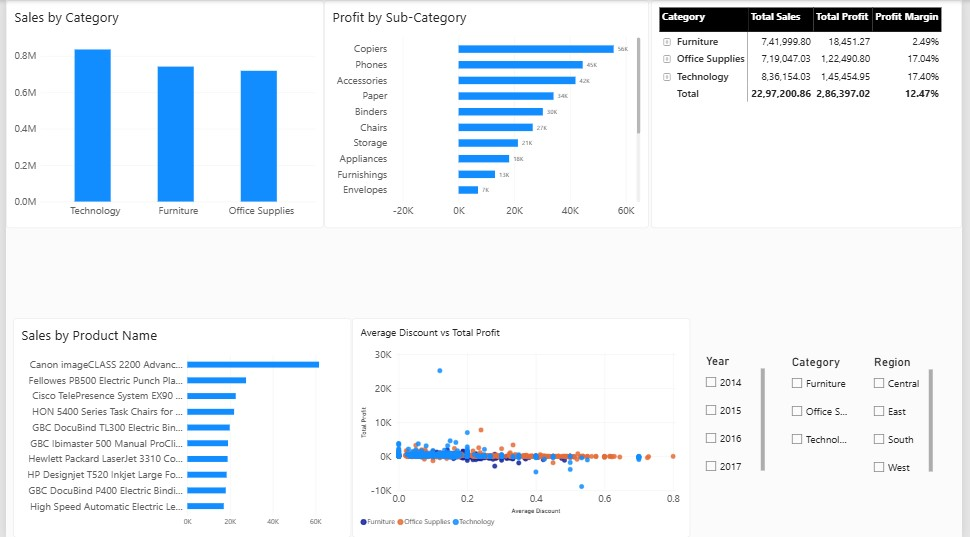

Layout of this report page (visuals, bound fields, positions):
{"tool":"powerbi","page":{"name":"Product Analysis","canvas":[1920,1080],"ordinal":1},"visuals":[{"type":"clusteredColumnChart","title":"Sales by Category","fields":{"Category":["Orders.Category"],"Y":["Calendar.Total Sales"]},"box":[0,0,638.4,457.7],"z":0},{"type":"clusteredBarChart","title":"Profit by Sub-Category","fields":{"Category":["Orders.Sub-Category"],"Y":["Calendar.Total Profit"]},"box":[638.4,0,652.4,457.7],"z":1000},{"type":"clusteredBarChart","title":"Sales by Product Name","fields":{"Category":["Orders.Product Name"],"Y":["Calendar.Total Sales"]},"box":[14.8,639.3,679.4,441],"z":2000},{"type":"scatterChart","title":"Average Discount vs Total Profit","fields":{"Category":["Orders.Product Name"],"Series":["Orders.Category"],"X":["Orders.Average Discount"],"Y":["Calendar.Total Profit"]},"box":[694.2,639.3,679.4,441],"z":3000},{"type":"pivotTable","fields":{"Rows":["Orders.Category","Orders.Sub-Category"],"Values":["Calendar.Total Sales","Calendar.Total Profit","Calendar.Profit Margin"]},"box":[1294.8,0,624.3,457.7],"z":4000},{"type":"slicer","fields":{"Values":["Calendar.Year"]},"box":[1397.7,710.6,126.3,246.2],"z":5000},{"type":"slicer","fields":{"Values":["Orders.Category"]},"box":[1569,712.8,126.3,246.2],"z":6000},{"type":"slicer","fields":{"Values":["Orders.Region"]},"box":[1733.8,712.8,126.3,246.2],"z":7000}]}

Visuals, with their boxes in screenshot pixels (x1, y1, x2, y2), scaled from the page's 1920x1080 canvas onto the 970x537 screenshot:
"Sales by Category" clusteredColumnChart: region(0, 0, 323, 228)
"Profit by Sub-Category" clusteredBarChart: region(323, 0, 652, 228)
"Sales by Product Name" clusteredBarChart: region(7, 318, 351, 536)
"Average Discount vs Total Profit" scatterChart: region(351, 318, 694, 536)
pivotTable - Orders.Category x Orders.Sub-Category: region(654, 0, 969, 228)
slicer - Calendar.Year: region(706, 353, 770, 476)
slicer - Orders.Category: region(793, 354, 856, 477)
slicer - Orders.Region: region(876, 354, 940, 477)
